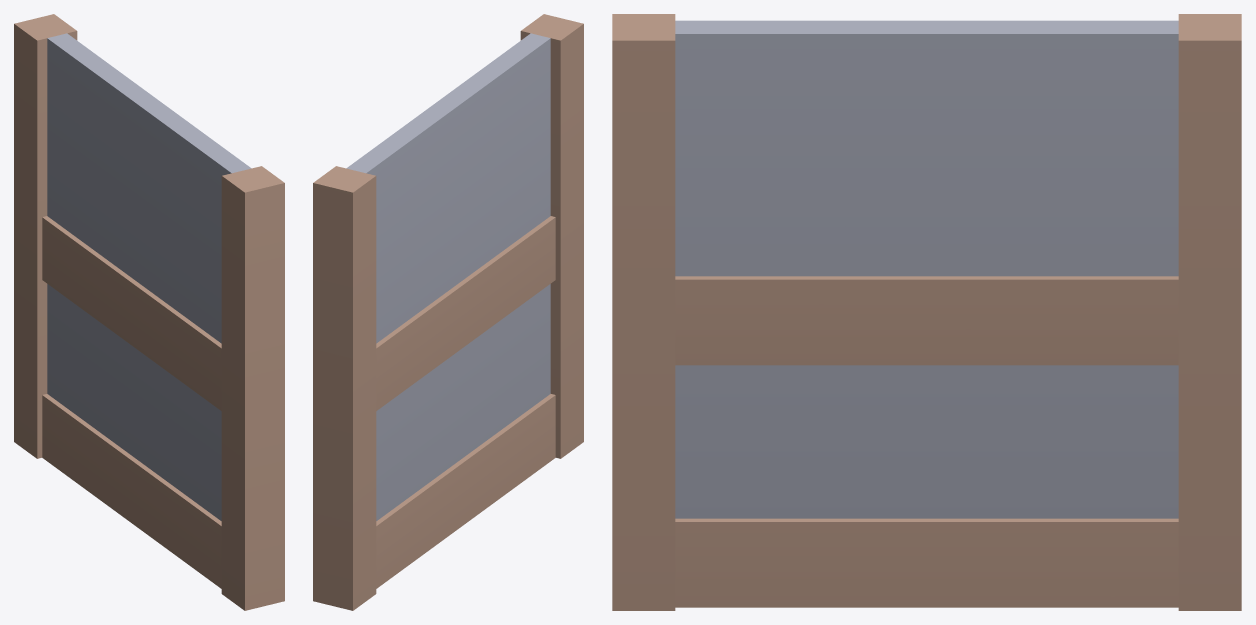
Rendered from wall-detail-horizontal.glb.
The picture shows the model from 3 angles, left to right: view 1: azimuth 30°, elevation 25°; view 2: azimuth 150°, elevation 25°; view 3: azimuth 270°, elevation 25°; orthographic projection. The views are drawn at different scales.
Visible parts, largest first — view 1: wall-detail-horizontal; view 2: wall-detail-horizontal; view 3: wall-detail-horizontal.
Part boxes in pixels (bbox=[...]): wall-detail-horizontal: bbox=[14, 14, 284, 610]; wall-detail-horizontal: bbox=[313, 14, 583, 610]; wall-detail-horizontal: bbox=[612, 14, 1241, 610].
Size of the model in its own units: 0.1 by 1 by 1.
